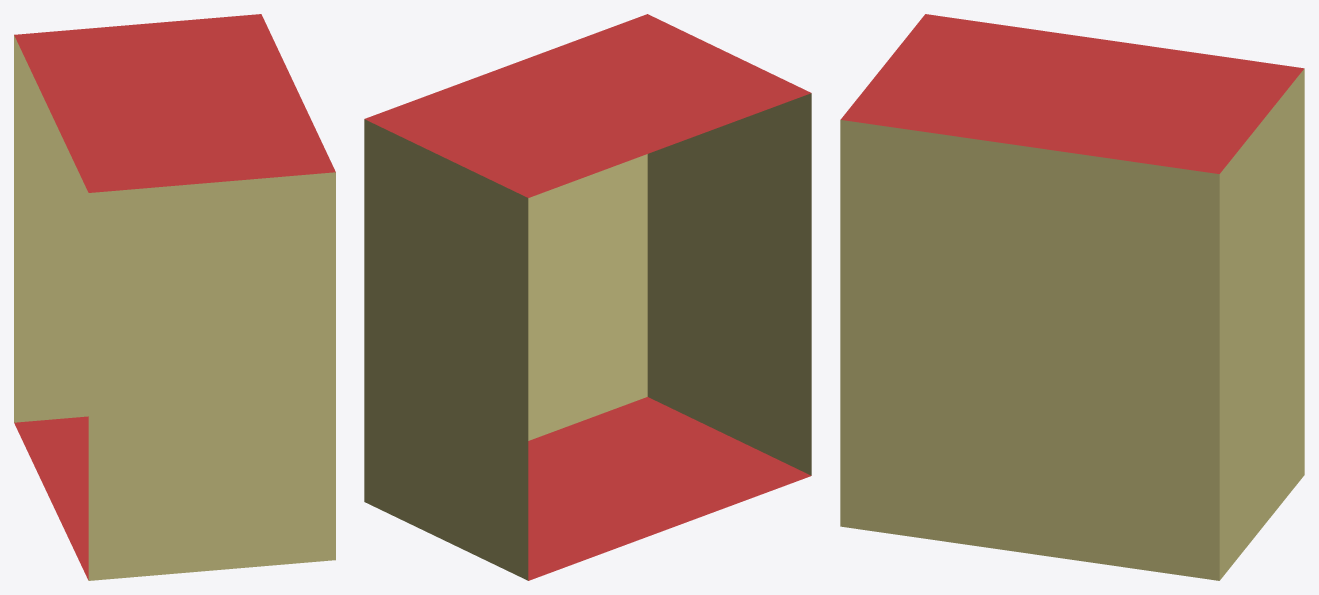
3 renders of one model, left to right at view 1: azimuth 30°, elevation 25°; view 2: azimuth 150°, elevation 25°; view 3: azimuth 270°, elevation 25°, orthographic. The views are drawn at different scales.
Size of the model in its own units: 4.59 by 5.62 by 5.44.
